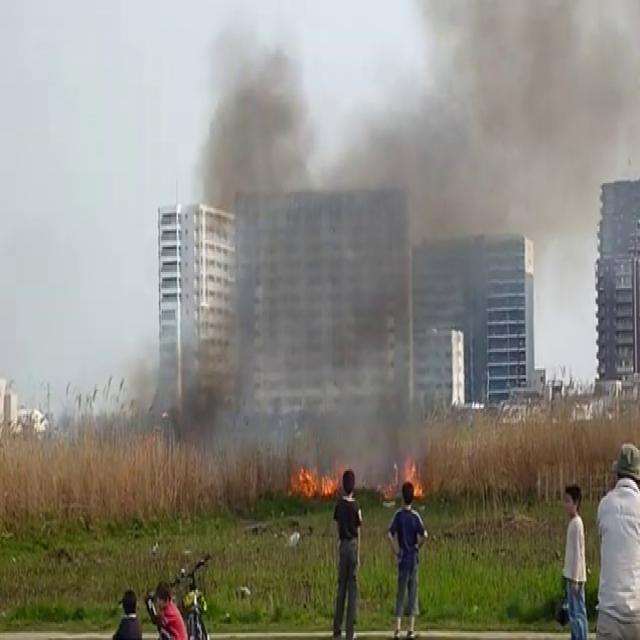Fire: (288, 453, 348, 505), (400, 448, 427, 503)
Smoke: (121, 2, 637, 474)
